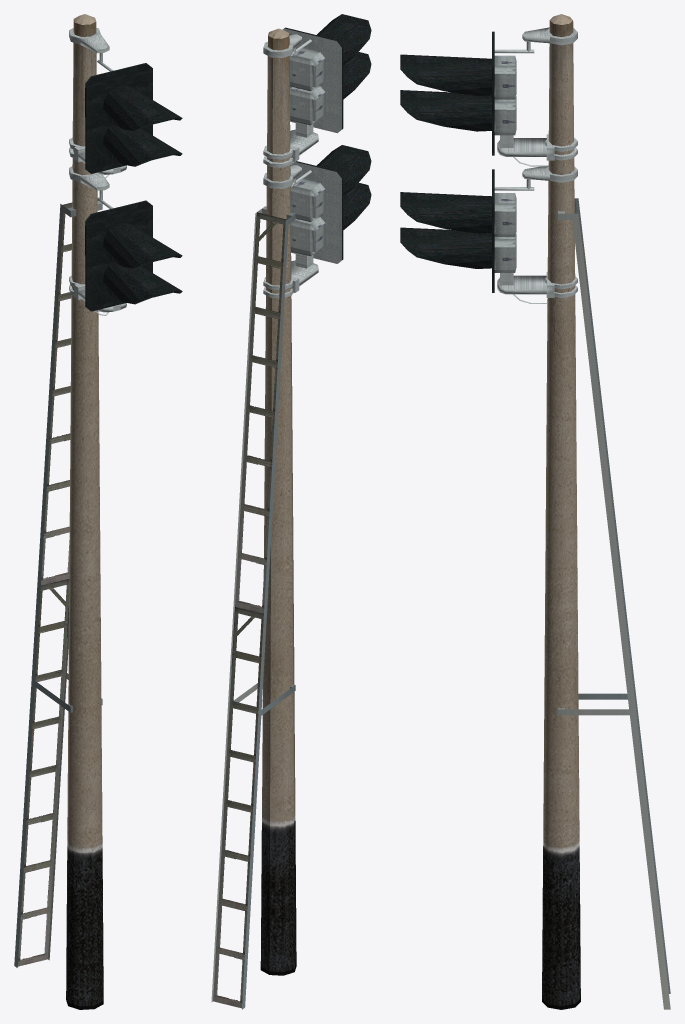
Rendered from exit.obj.
3 renders of one model, left to right at view 1: azimuth 30°, elevation 25°; view 2: azimuth 150°, elevation 25°; view 3: azimuth 270°, elevation 25°, orthographic. The views are drawn at different scales.
Parts seen in each view (by area): view 1: Body_1_Footing_concrete, Body_0_Signal, Body_2_Stairway; view 2: Body_1_Footing_concrete, Body_0_Signal, Body_2_Stairway; view 3: Body_1_Footing_concrete, Body_0_Signal, Body_2_Stairway.
Part boxes in pixels (x1=…): Body_1_Footing_concrete: x1=66, y1=14, x2=103, y2=1009; Body_0_Signal: x1=69, y1=28, x2=182, y2=315; Body_2_Stairway: x1=14, y1=200, x2=102, y2=967; Body_1_Footing_concrete: x1=260, y1=28, x2=296, y2=975; Body_0_Signal: x1=263, y1=14, x2=371, y2=298; Body_2_Stairway: x1=211, y1=206, x2=295, y2=1009; Body_1_Footing_concrete: x1=542, y1=14, x2=580, y2=1009; Body_0_Signal: x1=400, y1=27, x2=577, y2=303; Body_2_Stairway: x1=558, y1=198, x2=670, y2=1009.
Size of the model in its own units: 0.5618 by 7.97 by 1.98.
Materials: 7 (7 with a texture image).
